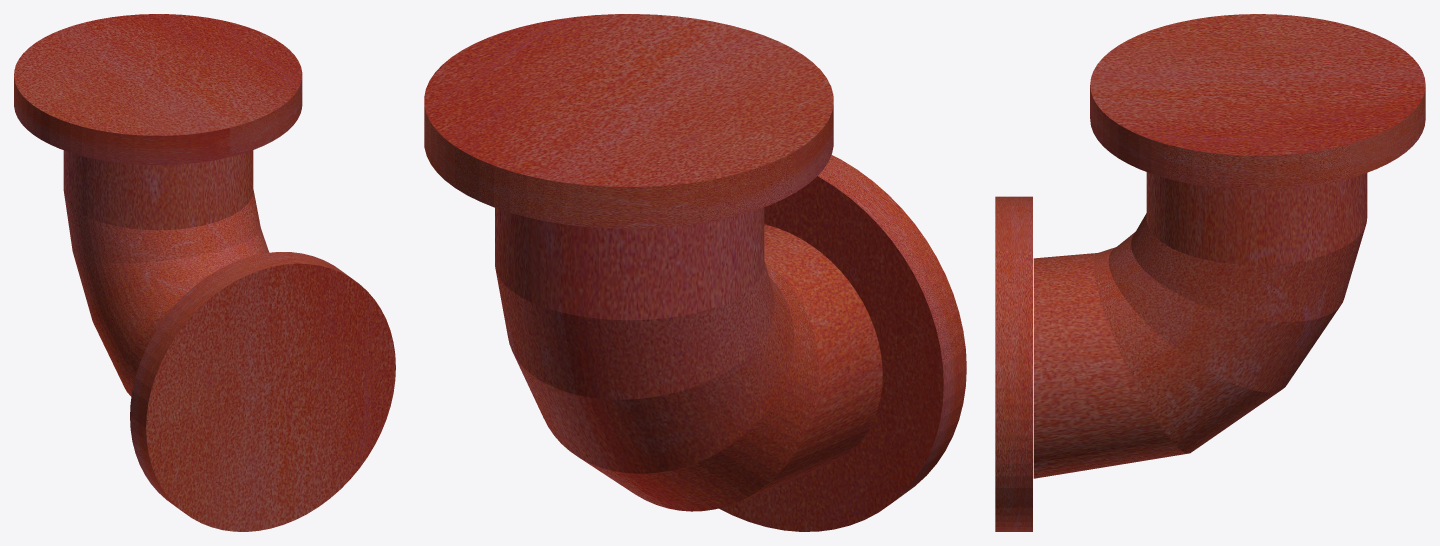
File: TuyauCoin.fbx
3 renders of one model, left to right at view 1: azimuth 30°, elevation 25°; view 2: azimuth 150°, elevation 25°; view 3: azimuth 270°, elevation 25°, orthographic. The views are drawn at different scales.
Parts seen in each view (by area): view 1: Coin; view 2: Coin; view 3: Coin.
Boxes of the visible parts, x1=… form: Coin: x1=14, y1=14, x2=395, y2=531; Coin: x1=424, y1=14, x2=966, y2=531; Coin: x1=995, y1=14, x2=1425, y2=531.
Size of the model in its own units: 60.82 by 86.32 by 78.01.
1 material, 1 textured.
